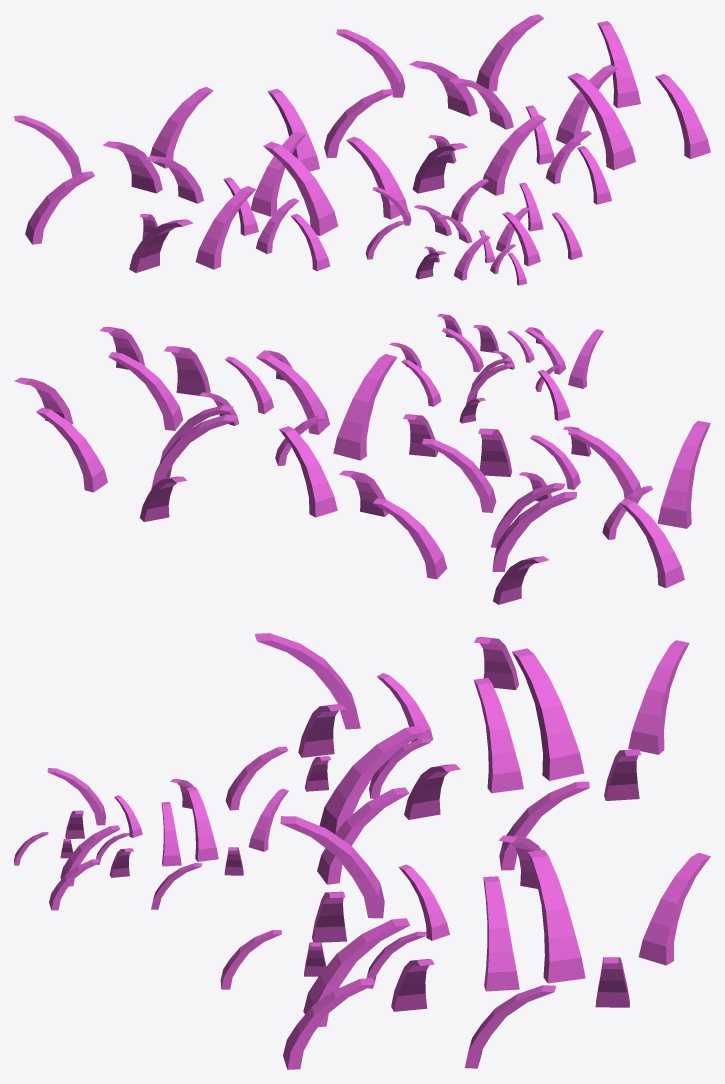
File: grass short UV TEXTURE v00.fbx
3 renders of one model, top to bottom at view 1: azimuth 30°, elevation 25°; view 2: azimuth 150°, elevation 25°; view 3: azimuth 270°, elevation 25°, orthographic. The views are drawn at different scales.
Parts seen in each view (by area): view 1: group6; view 2: group6; view 3: group6.
Boxes of the visible parts, x1=… form: group6: x1=14, y1=14, x2=710, y2=285; group6: x1=14, y1=314, x2=710, y2=604; group6: x1=14, y1=633, x2=710, y2=1069.
Size of the model in its own units: 0.8181 by 0.0868 by 0.6203.
